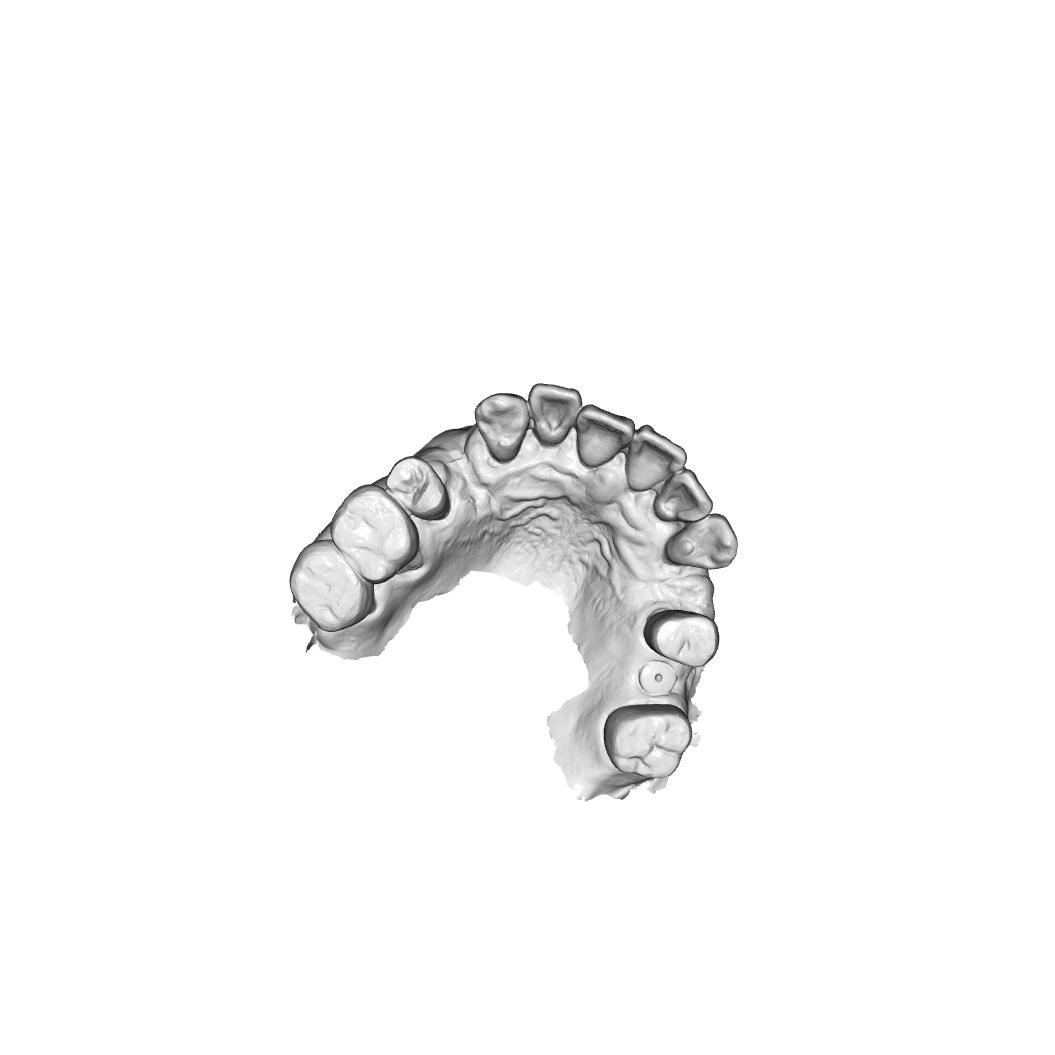canine: (664, 509, 740, 575), (473, 388, 531, 465)
implant: (629, 661, 691, 701)
incisor: (622, 423, 690, 500), (573, 399, 636, 472), (524, 381, 583, 449), (652, 464, 715, 527)
molar: (279, 536, 376, 633), (328, 483, 421, 584), (601, 702, 695, 782)
premolar: (636, 605, 723, 667), (385, 453, 452, 520)
